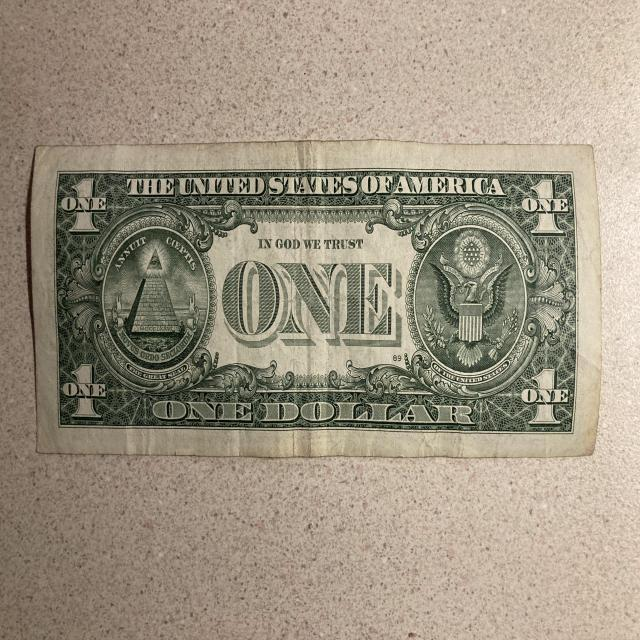one: (28, 139, 604, 458)
